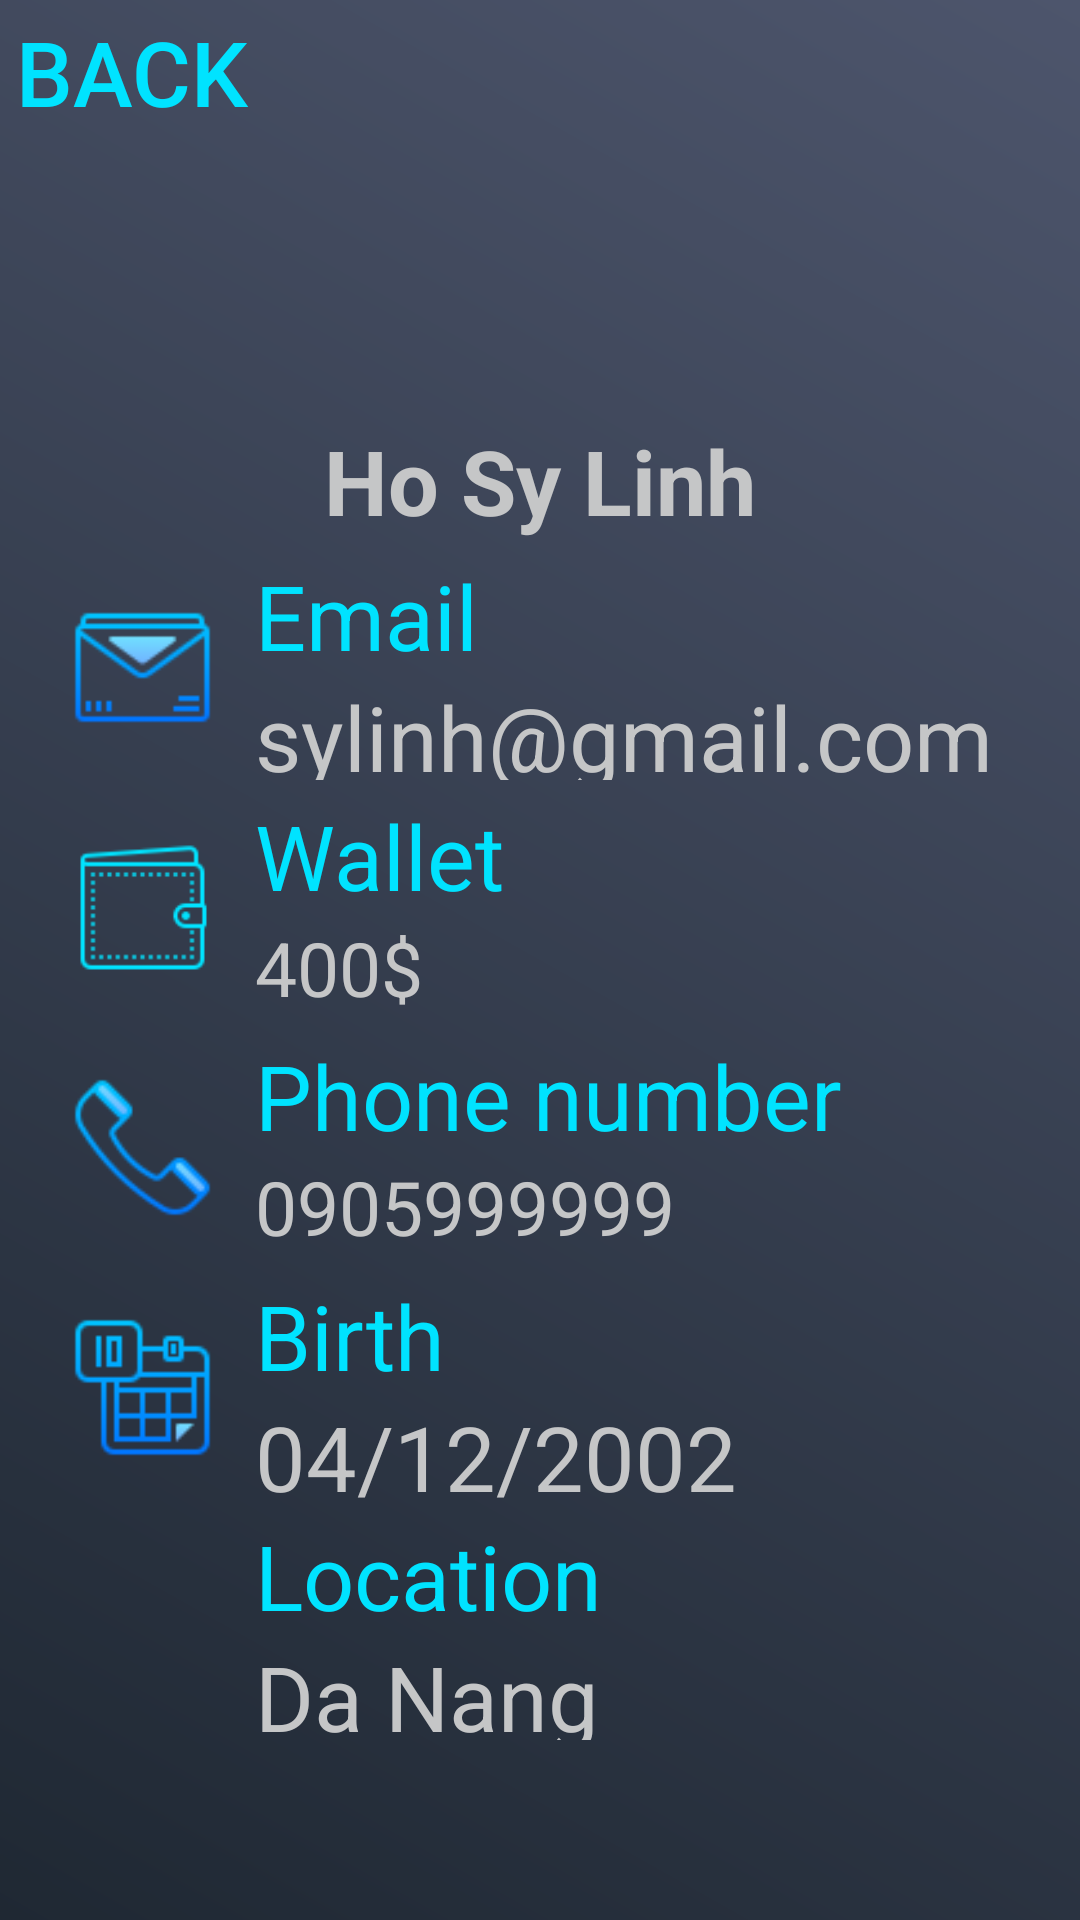

Locate icon controls on the screen. Image size 1080 × 1920, boxes as region(x1, y1, x2, y2).
calendar: region(75, 1320, 210, 1455)
